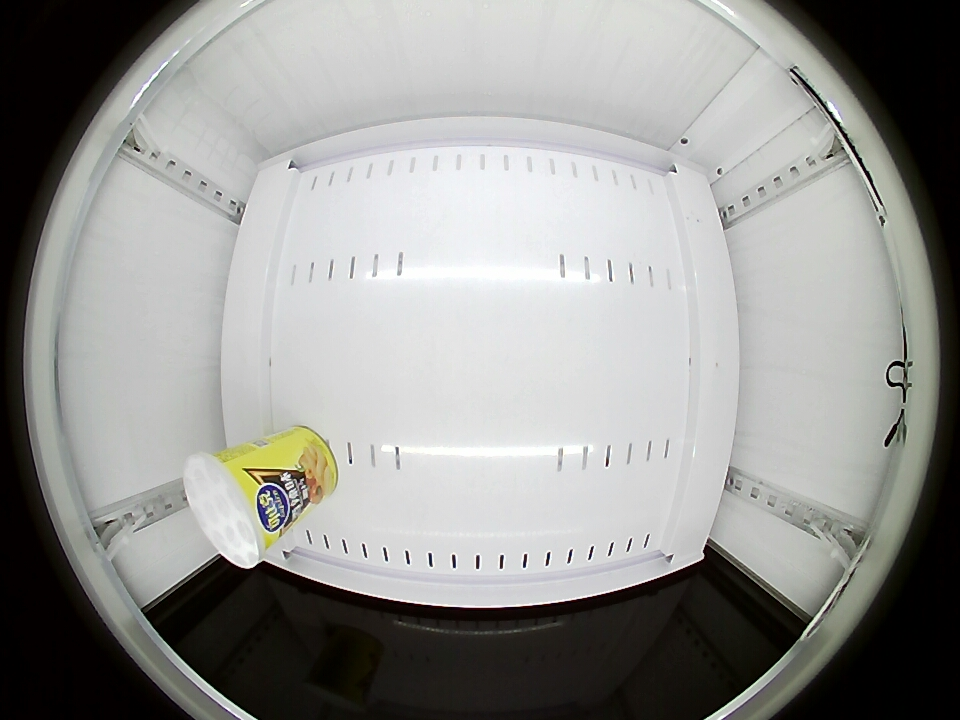kebike: (183, 445, 284, 569)
